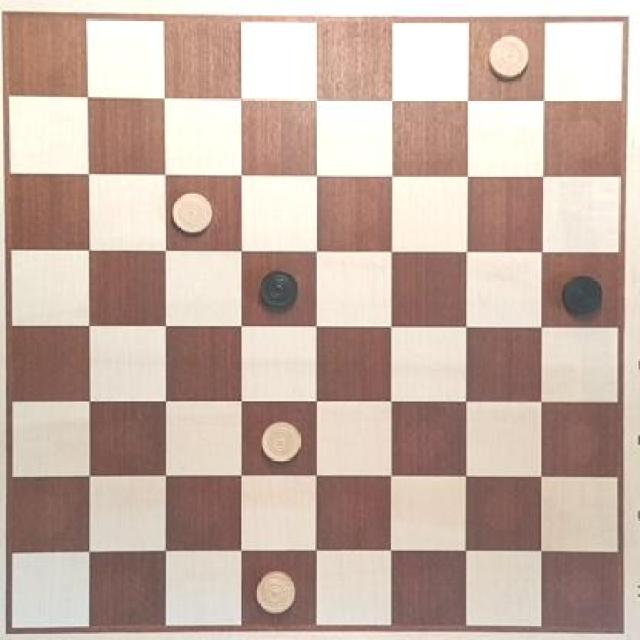BOARD: (6, 13, 627, 632)
black: (250, 262, 308, 314), (558, 270, 608, 321)
white: (483, 34, 536, 85), (166, 190, 218, 237), (257, 417, 303, 468), (255, 566, 296, 618)
